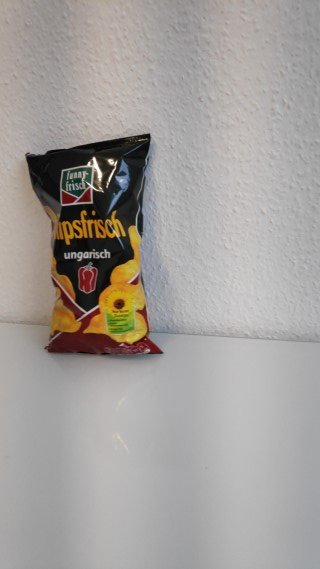chipsfrisch: (24, 132, 167, 357)
